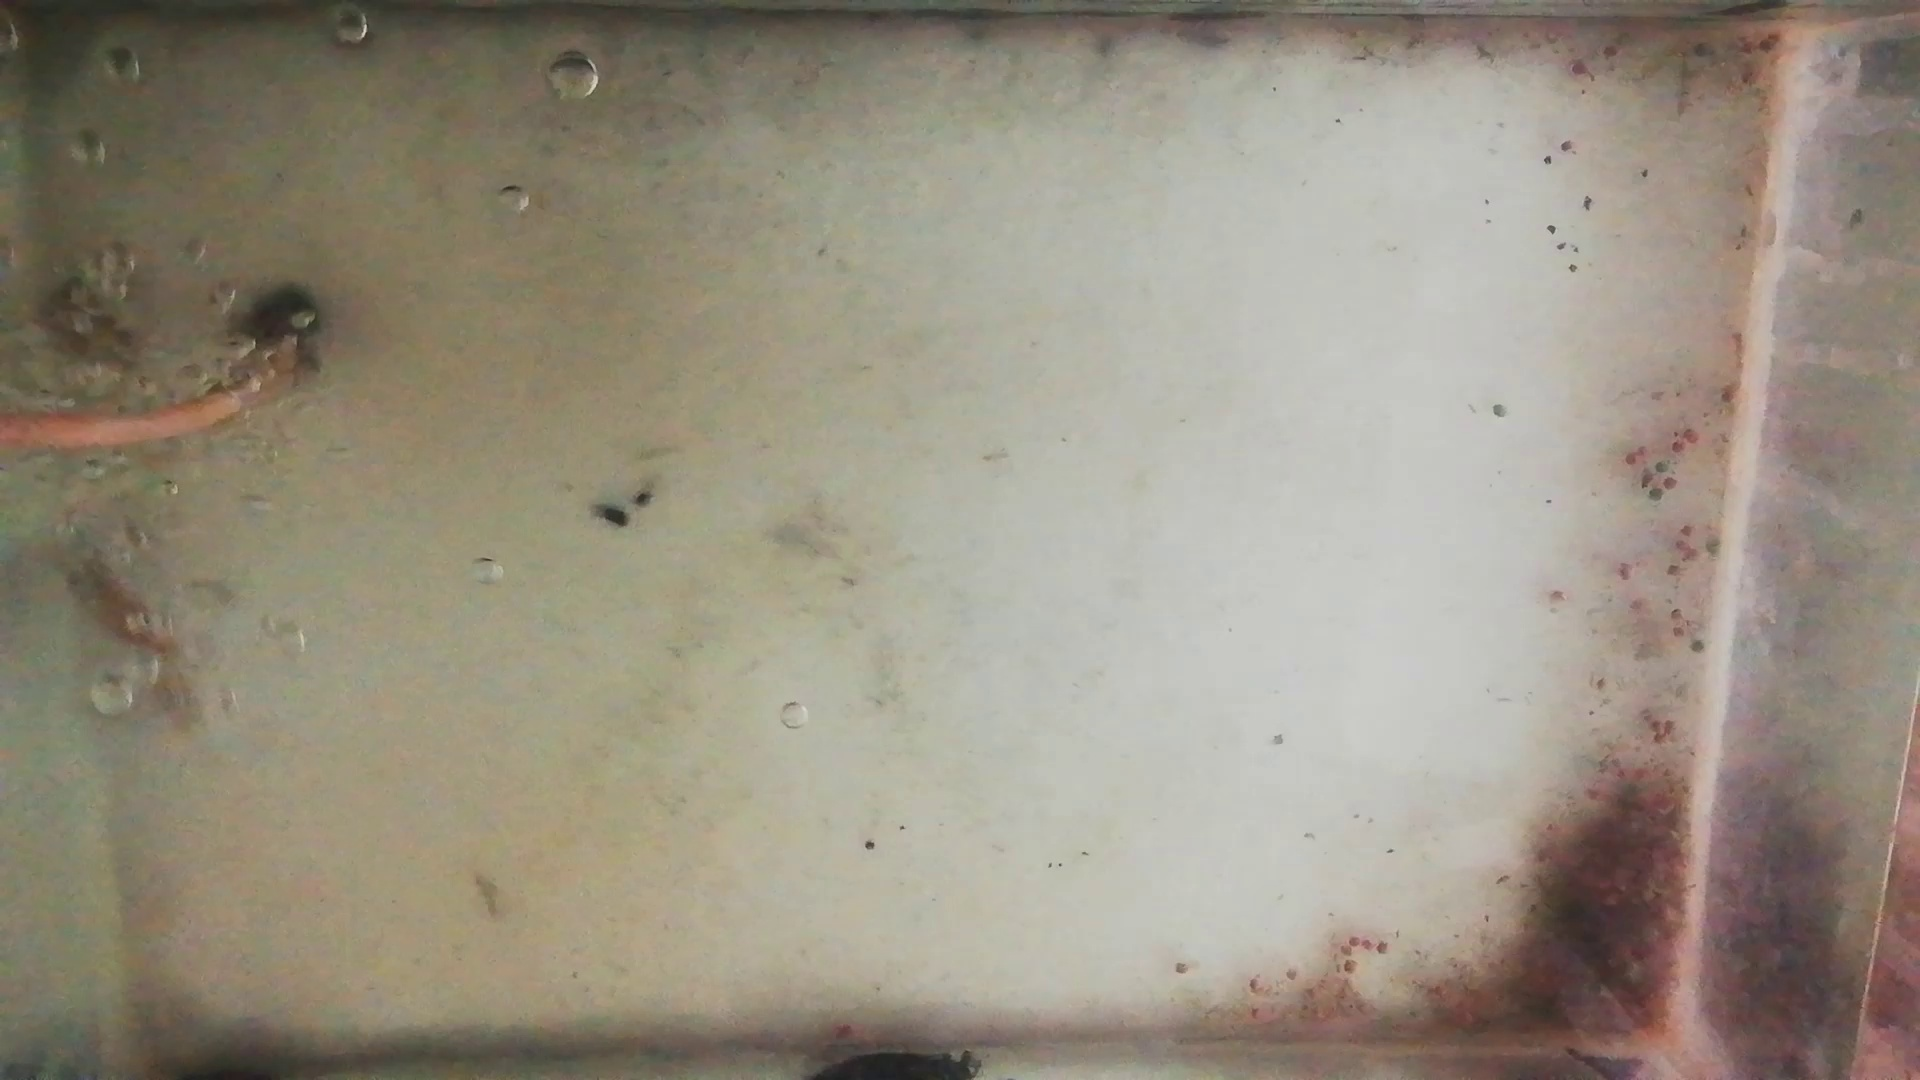fish: (58, 542, 195, 728), (44, 274, 154, 398)
